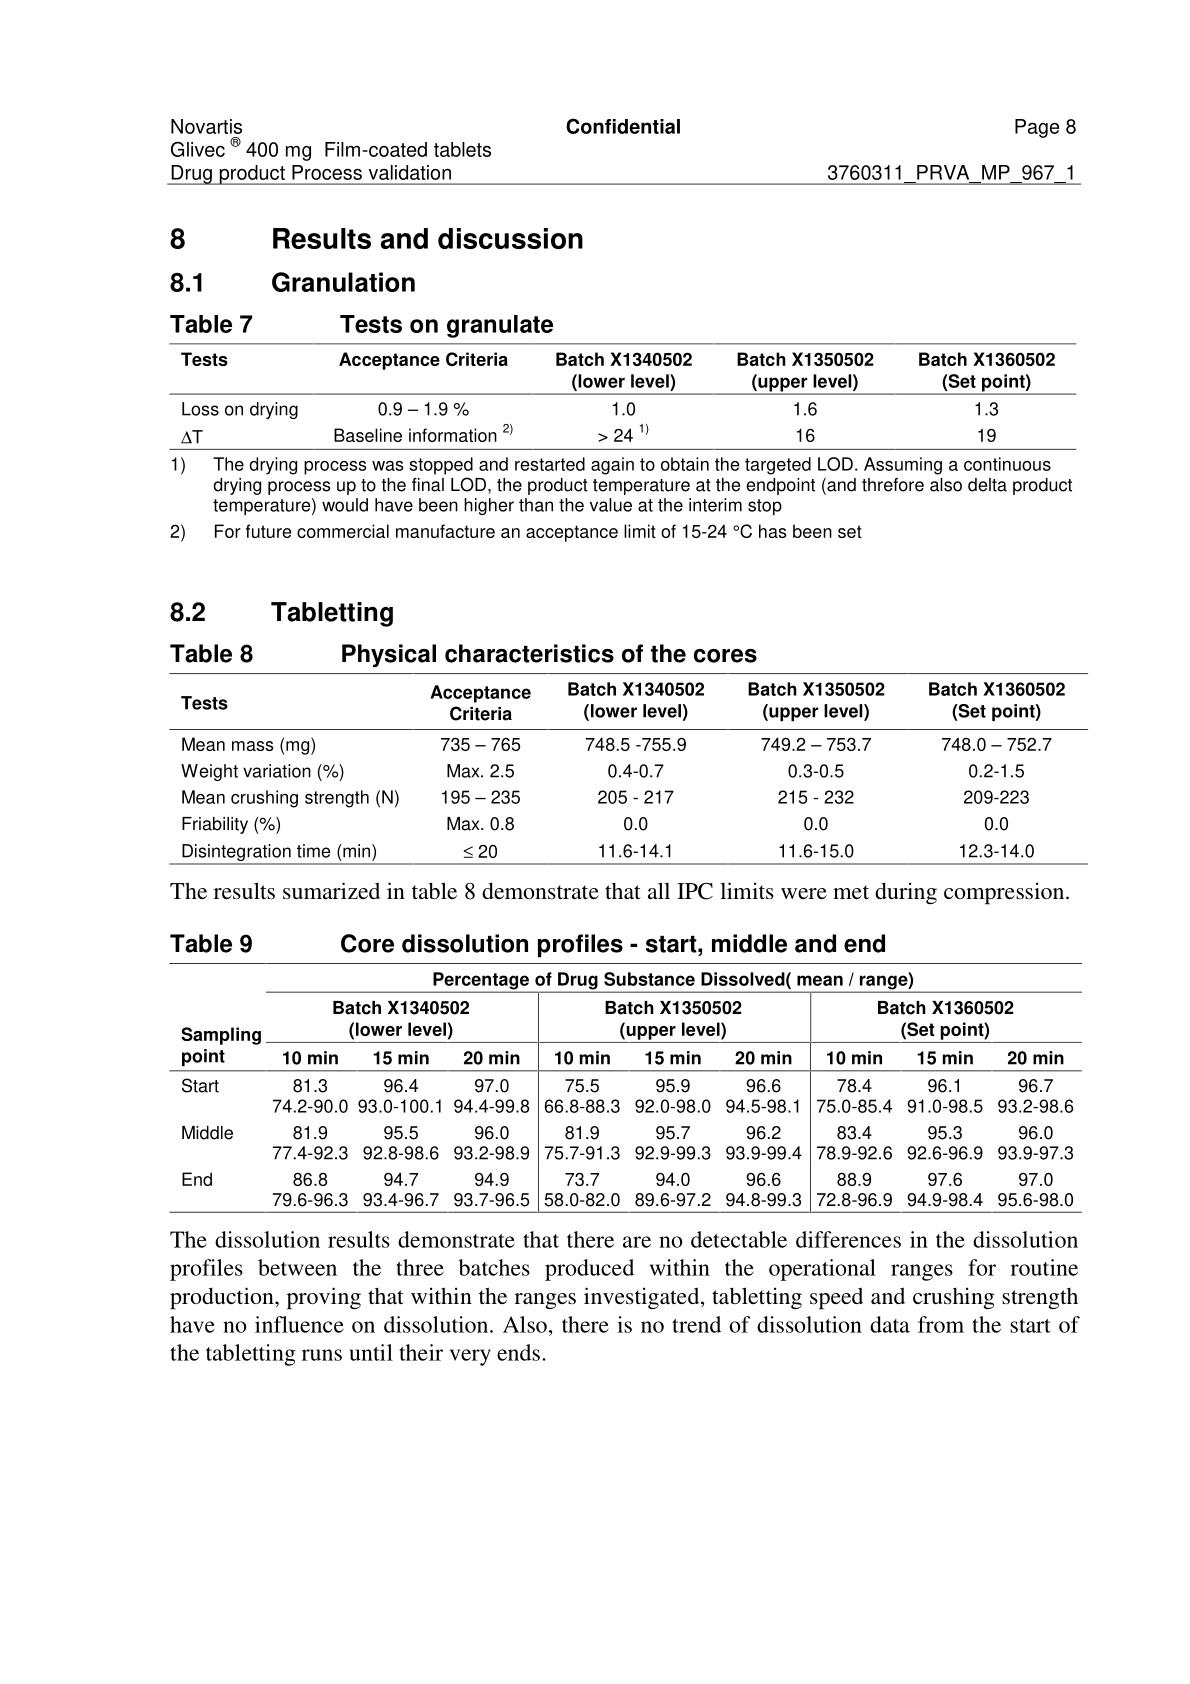partial_lined: (169, 672, 1090, 866), (169, 342, 1077, 451)
partial_lined_merged_cells: (167, 962, 1082, 1213)
